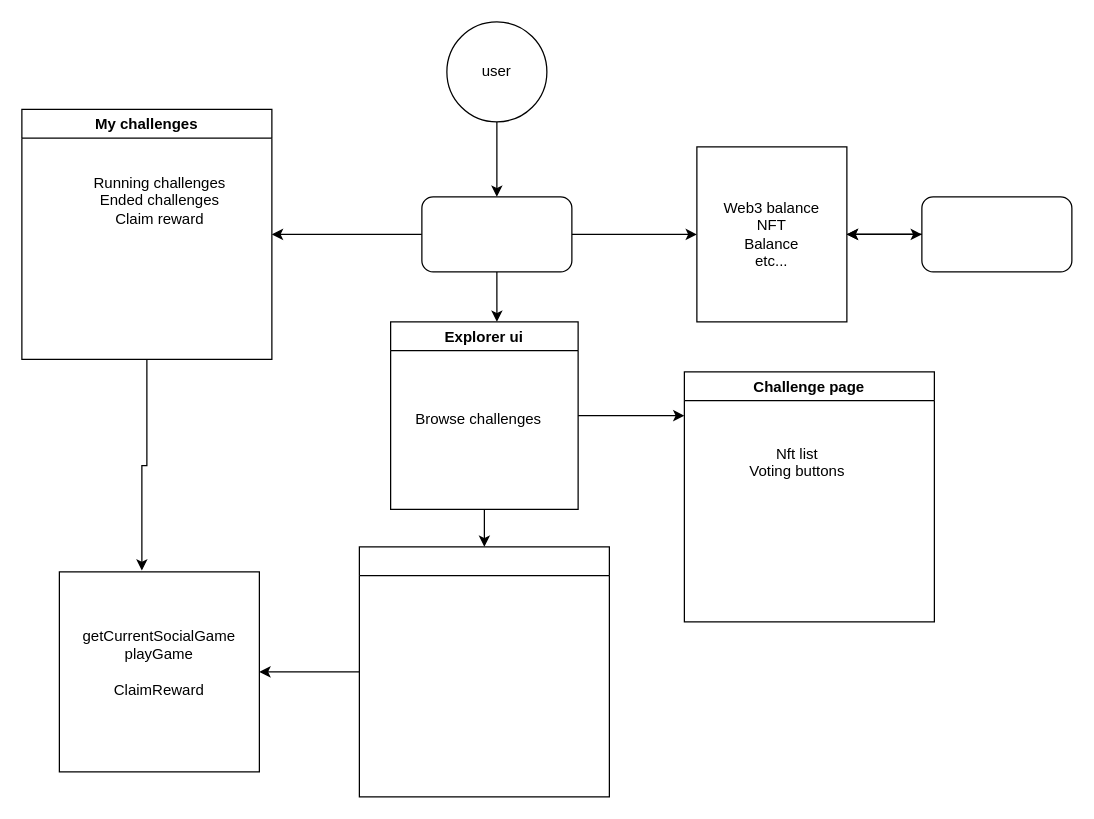
The diagram is 1094 pixels wide and 819 high, and some of its shapes have lost their labels. The shapes that lost their labels are listed below. From the top down, each one's centre as x and y in pixels, then its label:
At point 496,234: "Web3 account".
At point 996,234: "Next.ID Integration".
At point 483,671: "CoreContract".
